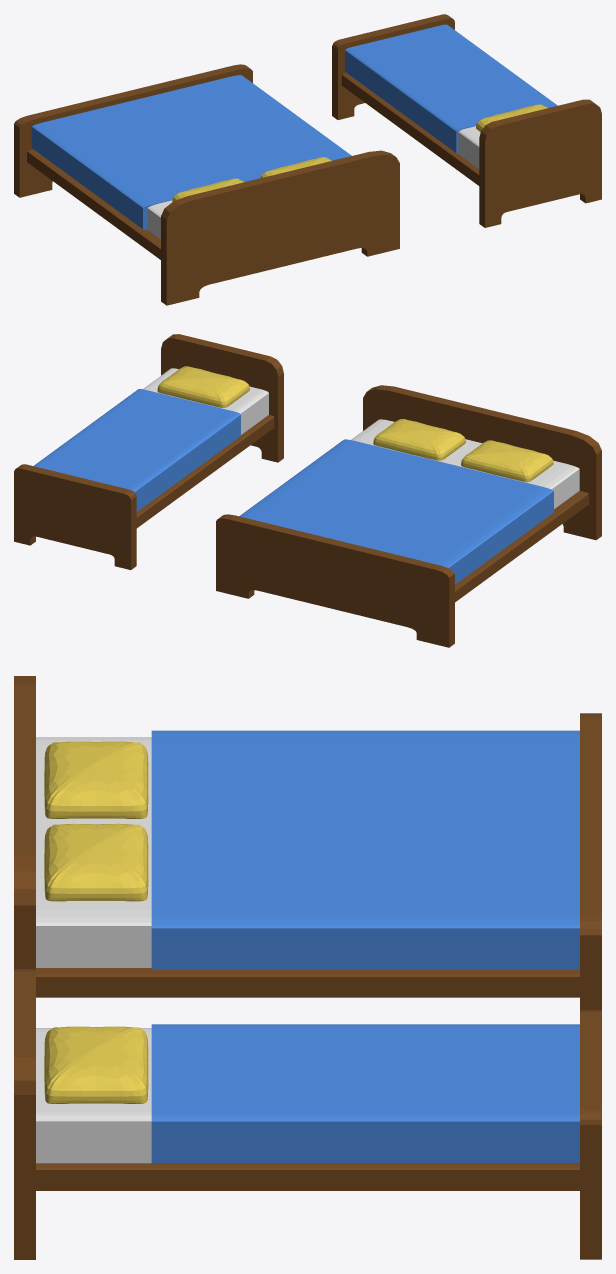
Rendered from Masterbed.fbx.
3 views of the same model, one above another, from view 1: azimuth 30°, elevation 25°; view 2: azimuth 150°, elevation 25°; view 3: azimuth 270°, elevation 25° (orthographic). The views are drawn at different scales.
Parts seen in each view (by area): view 1: Cube.009, Cube.007, Cube.004, Cube.002, Cube.008, Cube.001, Cube.003, Cube.005, Cube, Cube.006, Cube.010, Cube.012 (+1 smaller); view 2: Cube.009, Cube.008, Cube.004, Cube.007, Cube.001, Cube.002, Cube.003, Cube.012, Cube.006, Cube.011, Cube.005, Cube.010 (+1 smaller); view 3: Cube.009, Cube.004, Cube.003, Cube.005, Cube.010, Cube, Cube.012, Cube.006, Cube.011, Cube.008, Cube.007, Cube.002 (+1 smaller).
Part boxes in pixels (box(x1,y1,x2,y2)): Cube.009: box(31, 75, 351, 229); Cube.007: box(161, 150, 399, 305); Cube.004: box(345, 24, 557, 153); Cube.002: box(479, 99, 601, 227); Cube.008: box(14, 64, 252, 197); Cube.001: box(332, 14, 454, 119); Cube.003: box(27, 149, 160, 259); Cube.005: box(341, 72, 479, 185); Cube: box(458, 126, 480, 168); Cube.006: box(476, 104, 547, 131); Cube.010: box(147, 200, 172, 239); Cube.012: box(172, 178, 243, 201); Cube.009: box(239, 439, 553, 584); Cube.008: box(216, 514, 454, 647); Cube.004: box(33, 389, 240, 511); Cube.007: box(363, 385, 601, 540); Cube.001: box(14, 464, 136, 569); Cube.002: box(161, 334, 283, 462); Cube.003: box(455, 490, 588, 602); Cube.012: box(461, 440, 553, 482); Cube.006: box(157, 366, 249, 407); Cube.011: box(373, 419, 465, 460); Cube.005: box(136, 415, 274, 528); Cube.010: box(351, 419, 579, 508); Cube.009: box(151, 730, 579, 969); Cube.004: box(151, 1024, 579, 1163); Cube.003: box(36, 968, 579, 997); Cube.005: box(36, 1163, 579, 1190); Cube.010: box(36, 737, 151, 967); Cube: box(36, 1028, 151, 1163); Cube.012: box(44, 741, 148, 818); Cube.006: box(44, 1026, 148, 1103); Cube.011: box(44, 823, 148, 901); Cube.008: box(580, 713, 601, 1010); Cube.007: box(14, 676, 35, 968); Cube.002: box(14, 969, 35, 1259).
Bounding box in the file's own units: 1241 × 270 × 755.
